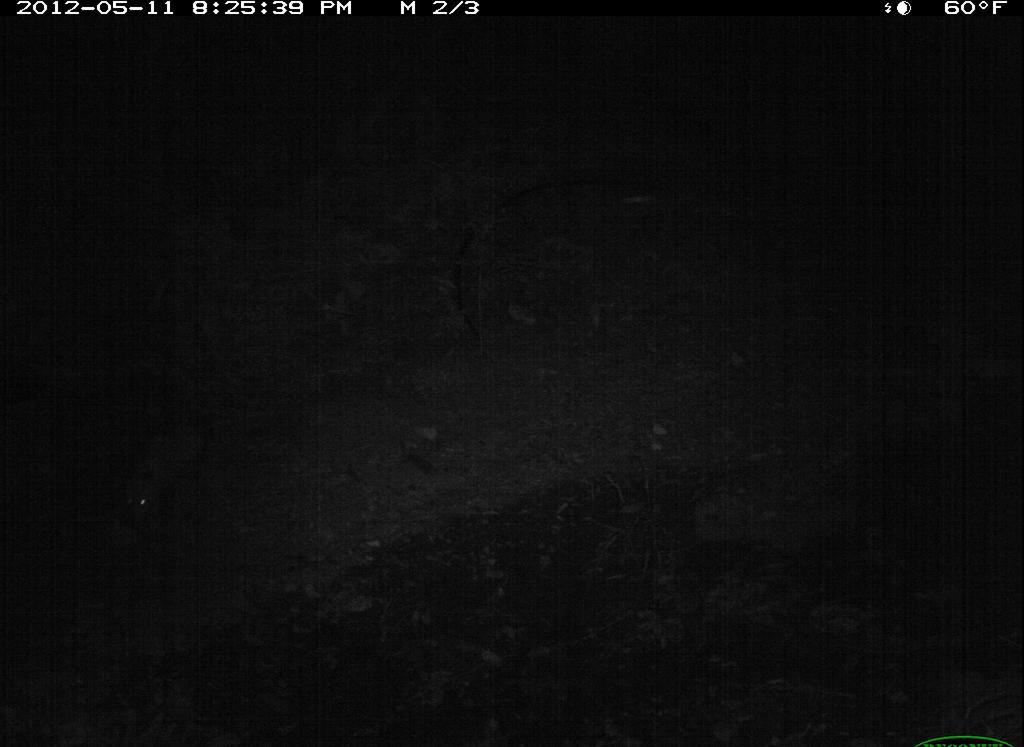opossum: (109, 419, 237, 536)
